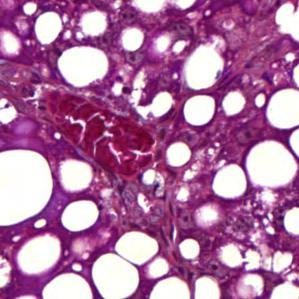steatosis: (54, 43, 116, 88), (57, 43, 109, 88), (180, 90, 219, 130), (210, 163, 249, 199)
